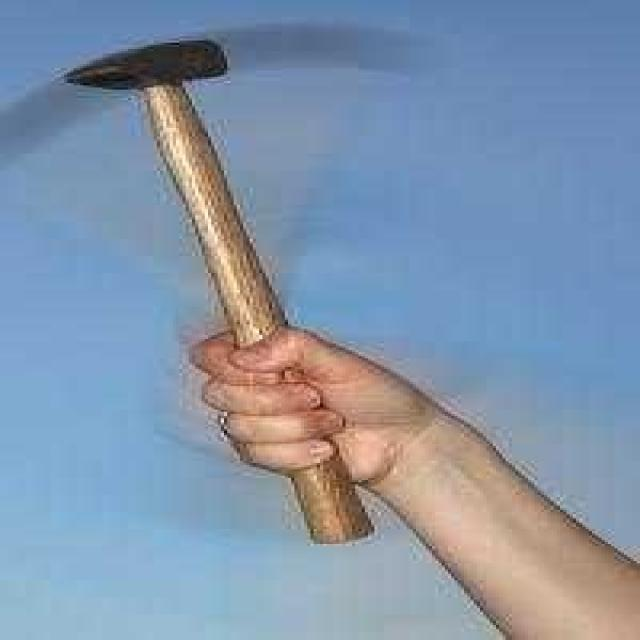hammer: (48, 39, 385, 552)
